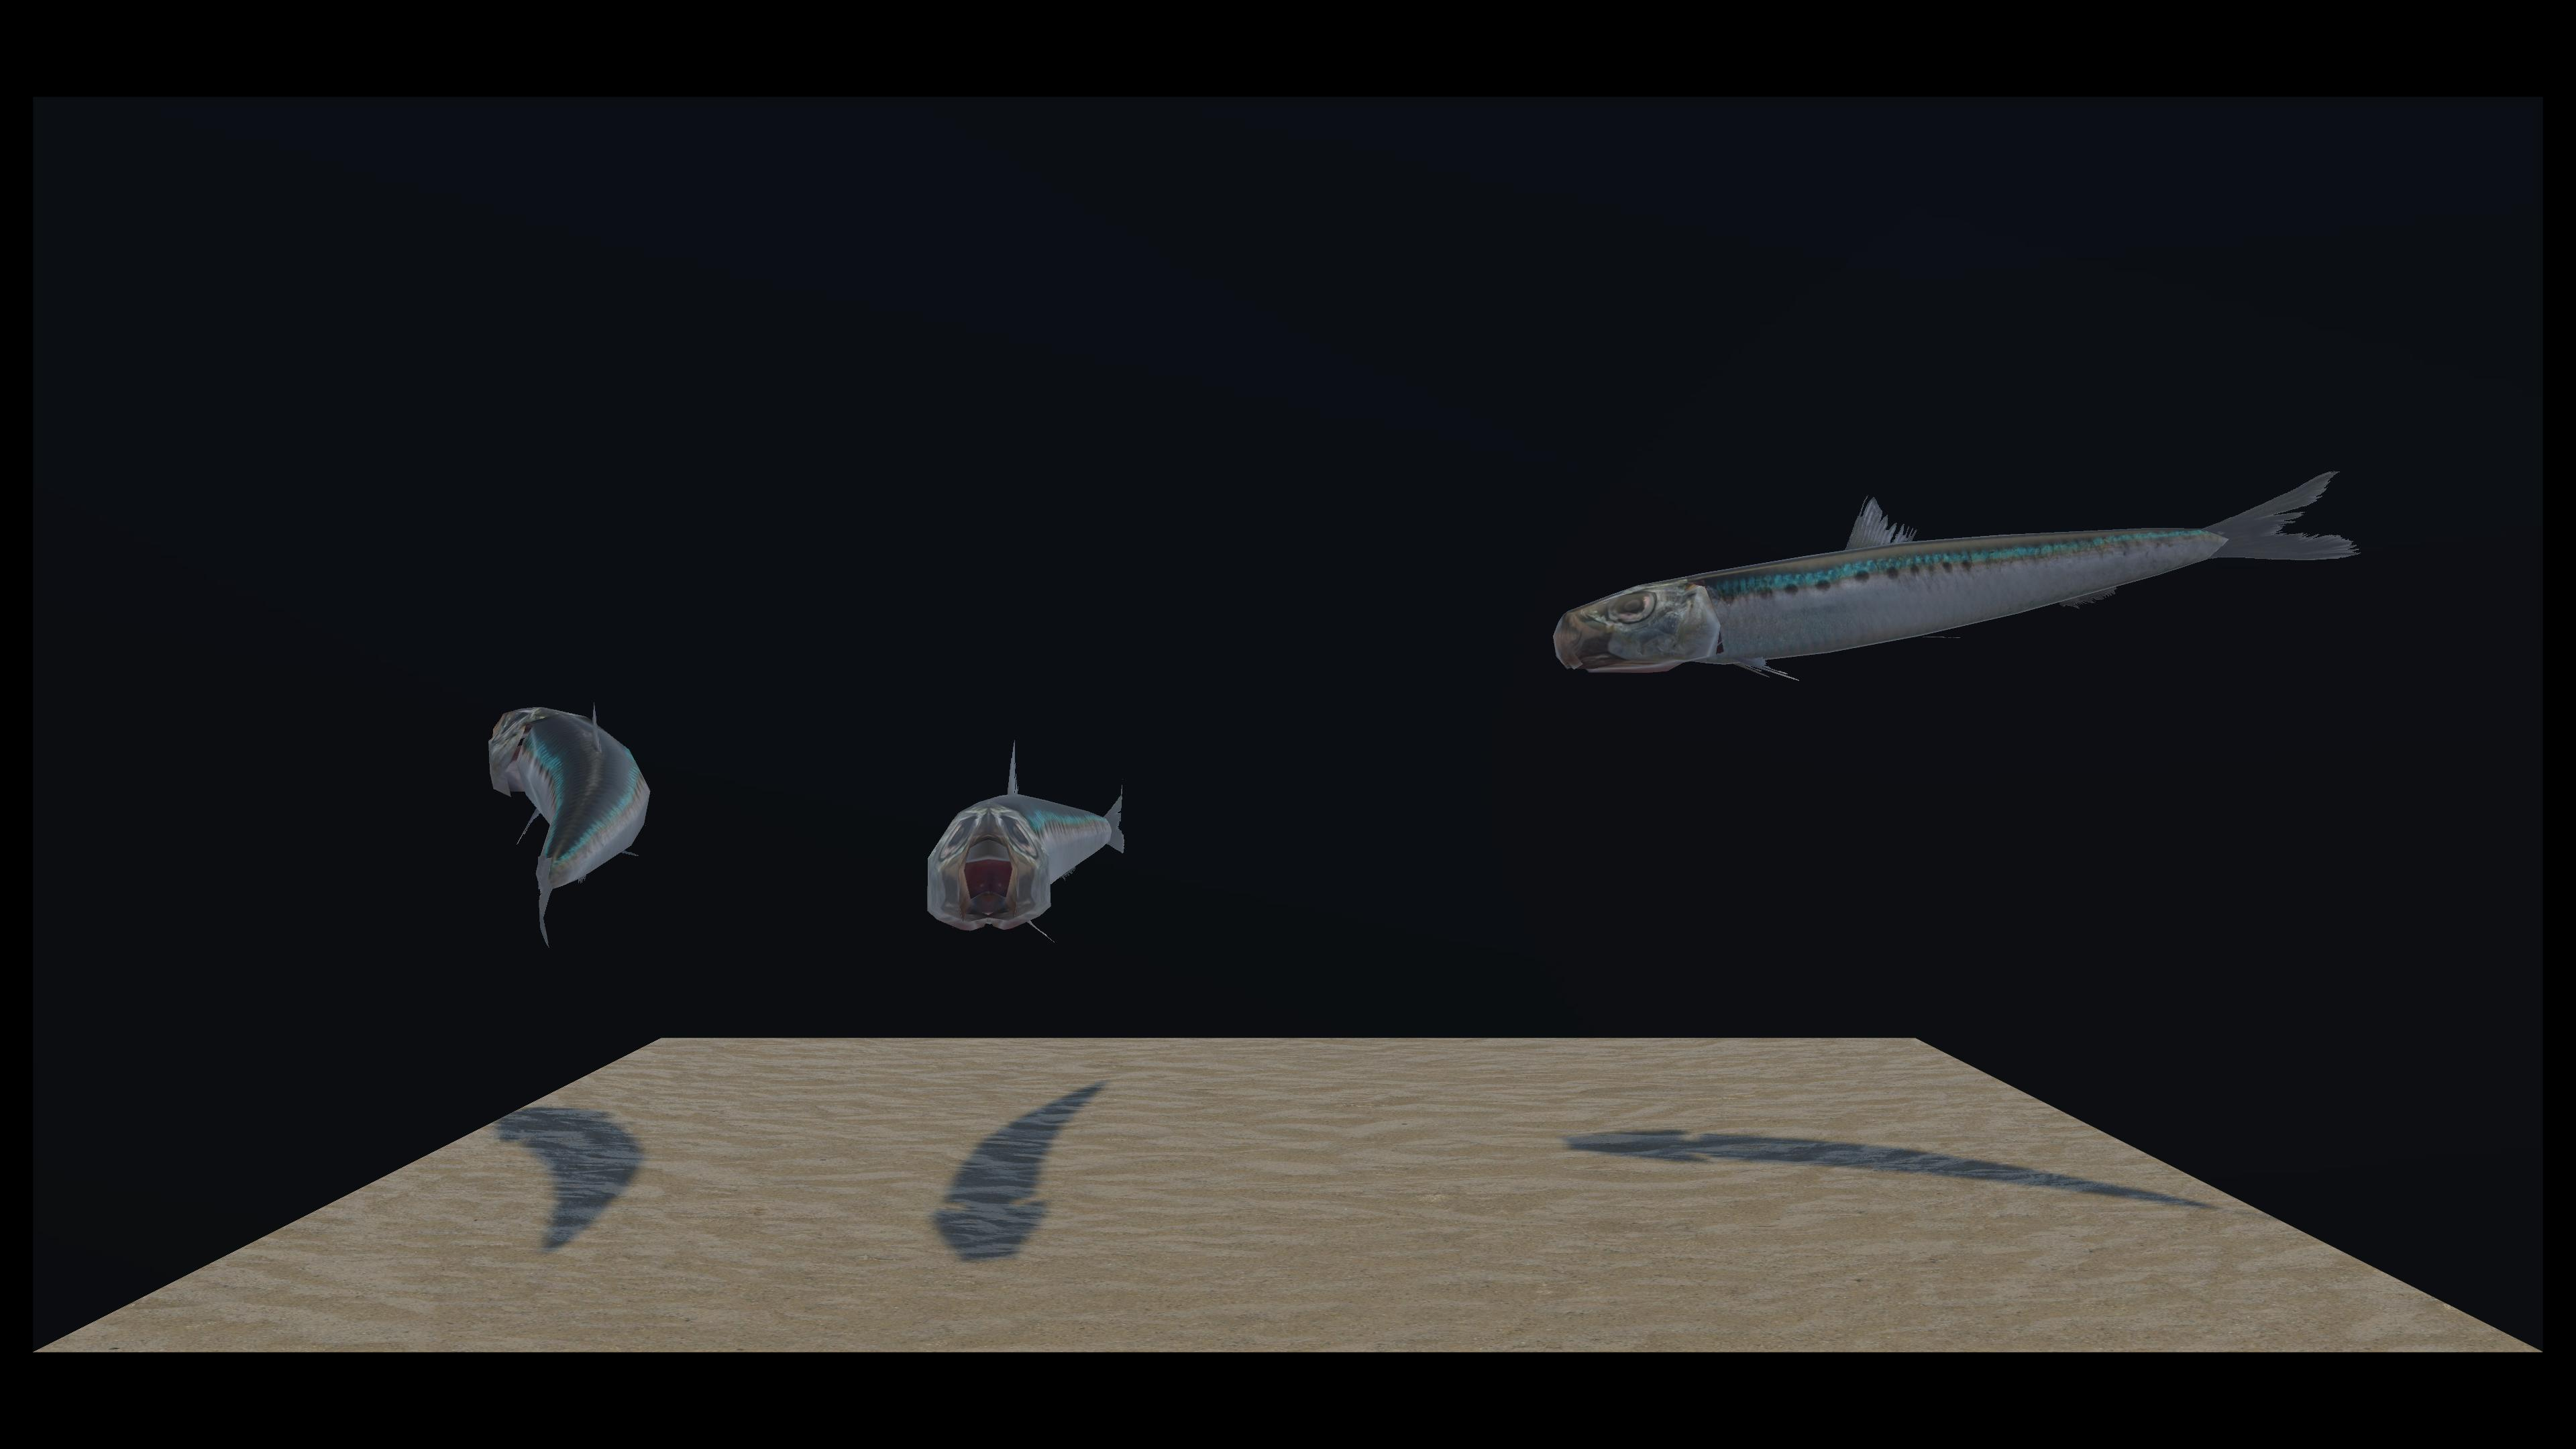Sardine_Front: (932, 327, 2342, 692), (444, 336, 1122, 952), (508, 481, 955, 948)
